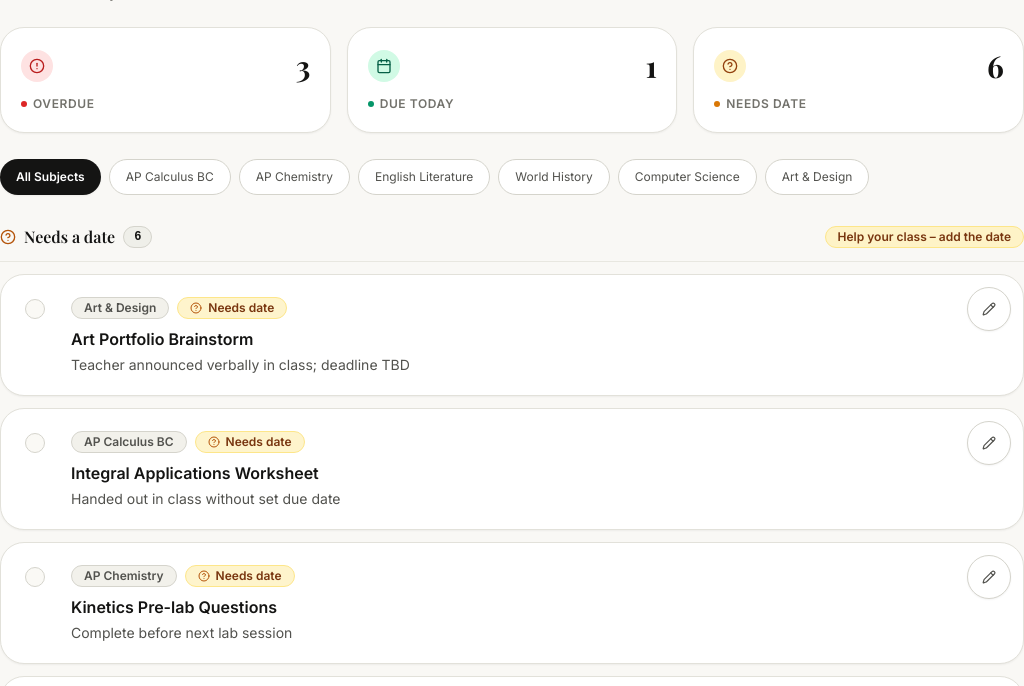
Test: BoardScreen Component › filters assignments by subject and resets filter
Note: Filter by Computer Science
Click the button "Computer Science" at (687, 177), box [618, 159, 757, 195]
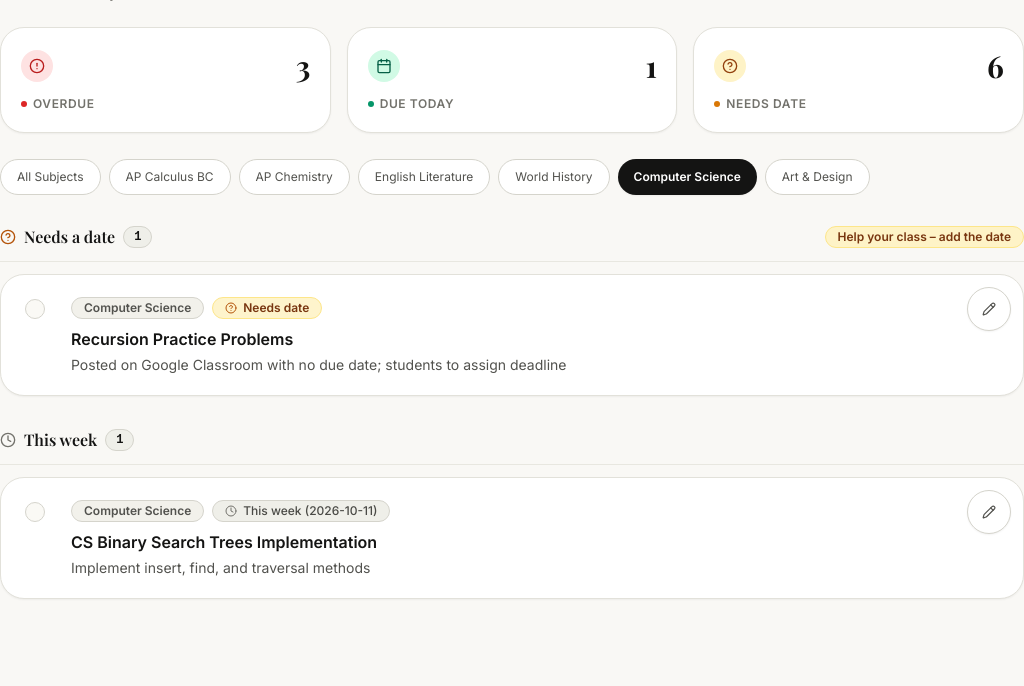
Expected: the heading "CS Binary Search Trees Implementation" is shown, [71, 532, 377, 552]
Expected: the text "Calculus Problem Set 4" is not shown
Note: Reset filter
Click the button "All Subjects" at (50, 177), box [0, 159, 100, 195]
(page scrolled)
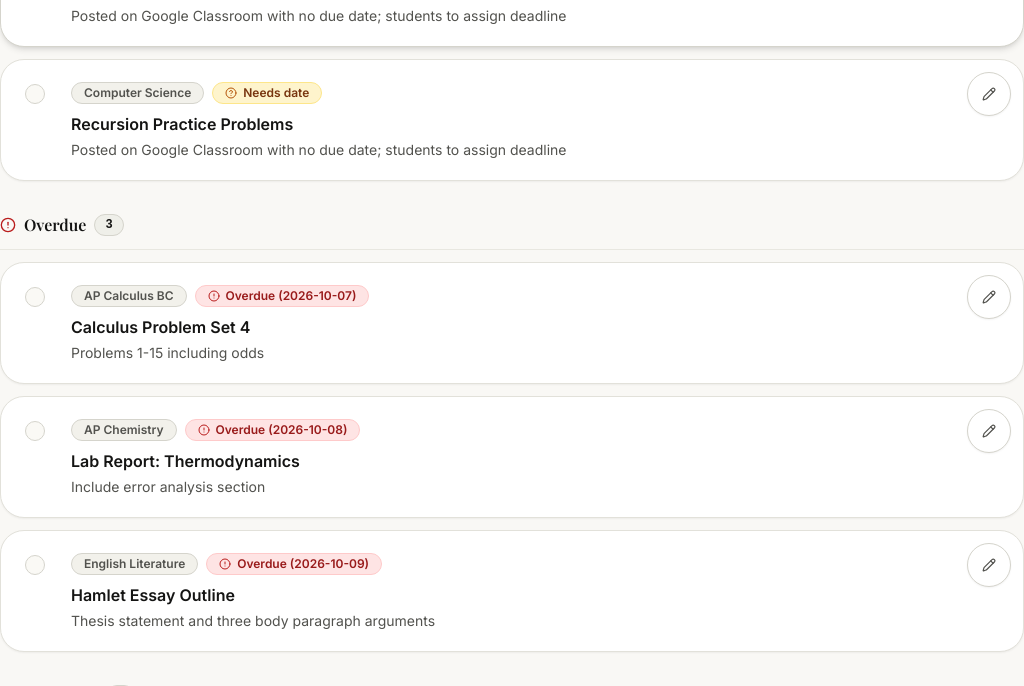
Now the heading "Calculus Problem Set 4" is shown, box [71, 317, 250, 337]
